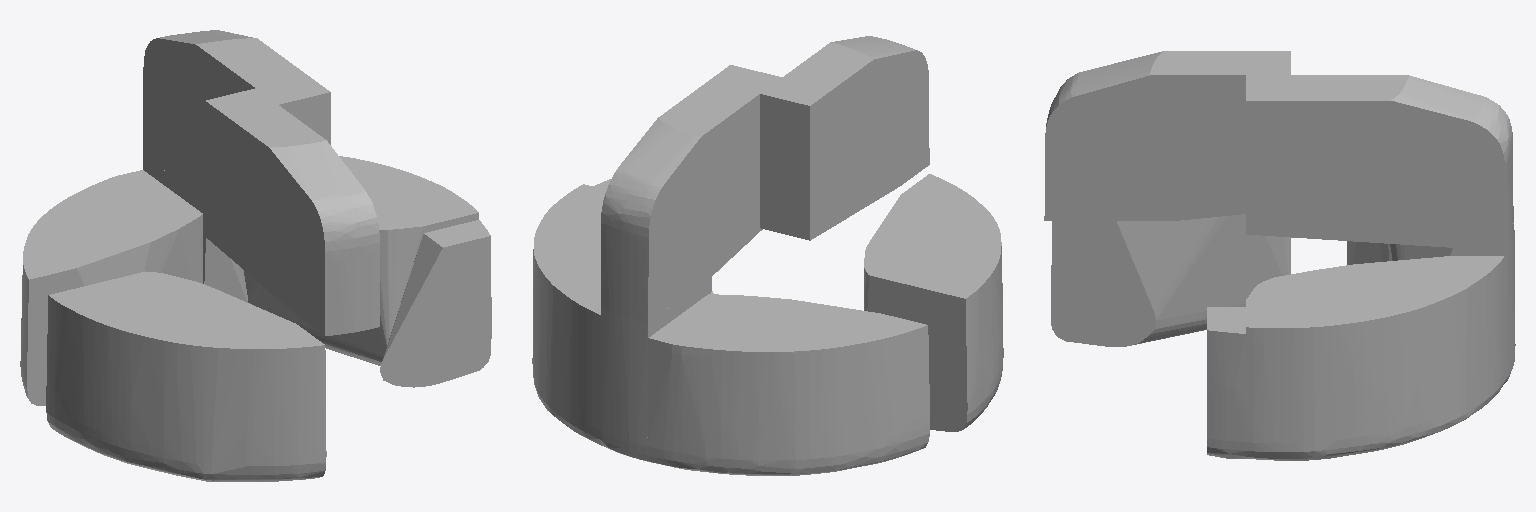
robot.urdf — root:
<robot name="root">
  <link name="link_coacd_convex_piece_0">
    <inertial>
      <origin xyz="0 0 0" rpy="0 0 0"/>
      <inertia ixx="5.64E-03" ixy="1.13E-04" ixz="-3.96E-04" iyy="4.89E-03" iyz="1.57E-04" izz="3.57E-03"/>
    </inertial>
    <visual>
      <origin xyz="0 0 0" rpy="0 0 0"/>
      <geometry>
        <mesh filename="coacd_convex_piece_0.obj" scale="1.0000E+00 1.0000E+00 1.0000E+00"/>
      </geometry>
      <material name="">
        <color rgba="7.50E-01 7.50E-01 7.50E-01 1"/>
      </material>
    </visual>
    <collision>
      <origin xyz="0 0 0" rpy="0 0 0"/>
      <geometry>
        <mesh filename="coacd_convex_piece_0.obj" scale="1.0000E+00 1.0000E+00 1.0000E+00"/>
      </geometry>
    </collision>
  </link>
  <link name="link_coacd_convex_piece_1">
    <inertial>
      <origin xyz="0 0 0" rpy="0 0 0"/>
      <inertia ixx="9.91E-04" ixy="1.31E-04" ixz="6.62E-04" iyy="1.30E-03" iyz="-2.97E-04" izz="4.37E-04"/>
    </inertial>
    <visual>
      <origin xyz="0 0 0" rpy="0 0 0"/>
      <geometry>
        <mesh filename="coacd_convex_piece_1.obj" scale="1.0000E+00 1.0000E+00 1.0000E+00"/>
      </geometry>
      <material name="">
        <color rgba="7.50E-01 7.50E-01 7.50E-01 1"/>
      </material>
    </visual>
    <collision>
      <origin xyz="0 0 0" rpy="0 0 0"/>
      <geometry>
        <mesh filename="coacd_convex_piece_1.obj" scale="1.0000E+00 1.0000E+00 1.0000E+00"/>
      </geometry>
    </collision>
  </link>
  <joint name="link_coacd_convex_piece_1_joint" type="fixed">
    <origin xyz="0 0 0" rpy="0 0 0"/>
    <parent link="link_coacd_convex_piece_0"/>
    <child link="link_coacd_convex_piece_1"/>
  </joint>
  <link name="link_coacd_convex_piece_2">
    <inertial>
      <origin xyz="0 0 0" rpy="0 0 0"/>
      <inertia ixx="1.37E-03" ixy="7.91E-05" ixz="6.43E-04" iyy="1.62E-03" iyz="-1.91E-04" izz="3.00E-04"/>
    </inertial>
    <visual>
      <origin xyz="0 0 0" rpy="0 0 0"/>
      <geometry>
        <mesh filename="coacd_convex_piece_2.obj" scale="1.0000E+00 1.0000E+00 1.0000E+00"/>
      </geometry>
      <material name="">
        <color rgba="7.50E-01 7.50E-01 7.50E-01 1"/>
      </material>
    </visual>
    <collision>
      <origin xyz="0 0 0" rpy="0 0 0"/>
      <geometry>
        <mesh filename="coacd_convex_piece_2.obj" scale="1.0000E+00 1.0000E+00 1.0000E+00"/>
      </geometry>
    </collision>
  </link>
  <joint name="link_coacd_convex_piece_2_joint" type="fixed">
    <origin xyz="0 0 0" rpy="0 0 0"/>
    <parent link="link_coacd_convex_piece_1"/>
    <child link="link_coacd_convex_piece_2"/>
  </joint>
  <link name="link_coacd_convex_piece_3">
    <inertial>
      <origin xyz="0 0 0" rpy="0 0 0"/>
      <inertia ixx="4.43E-03" ixy="-7.04E-04" ixz="2.92E-03" iyy="5.32E-03" iyz="1.57E-03" izz="2.39E-03"/>
    </inertial>
    <visual>
      <origin xyz="0 0 0" rpy="0 0 0"/>
      <geometry>
        <mesh filename="coacd_convex_piece_3.obj" scale="1.0000E+00 1.0000E+00 1.0000E+00"/>
      </geometry>
      <material name="">
        <color rgba="7.50E-01 7.50E-01 7.50E-01 1"/>
      </material>
    </visual>
    <collision>
      <origin xyz="0 0 0" rpy="0 0 0"/>
      <geometry>
        <mesh filename="coacd_convex_piece_3.obj" scale="1.0000E+00 1.0000E+00 1.0000E+00"/>
      </geometry>
    </collision>
  </link>
  <joint name="link_coacd_convex_piece_3_joint" type="fixed">
    <origin xyz="0 0 0" rpy="0 0 0"/>
    <parent link="link_coacd_convex_piece_2"/>
    <child link="link_coacd_convex_piece_3"/>
  </joint>
  <link name="link_coacd_convex_piece_4">
    <inertial>
      <origin xyz="0 0 0" rpy="0 0 0"/>
      <inertia ixx="1.82E-03" ixy="-8.84E-05" ixz="-2.22E-04" iyy="1.33E-03" iyz="-9.09E-04" izz="5.58E-04"/>
    </inertial>
    <visual>
      <origin xyz="0 0 0" rpy="0 0 0"/>
      <geometry>
        <mesh filename="coacd_convex_piece_4.obj" scale="1.0000E+00 1.0000E+00 1.0000E+00"/>
      </geometry>
      <material name="">
        <color rgba="7.50E-01 7.50E-01 7.50E-01 1"/>
      </material>
    </visual>
    <collision>
      <origin xyz="0 0 0" rpy="0 0 0"/>
      <geometry>
        <mesh filename="coacd_convex_piece_4.obj" scale="1.0000E+00 1.0000E+00 1.0000E+00"/>
      </geometry>
    </collision>
  </link>
  <joint name="link_coacd_convex_piece_4_joint" type="fixed">
    <origin xyz="0 0 0" rpy="0 0 0"/>
    <parent link="link_coacd_convex_piece_3"/>
    <child link="link_coacd_convex_piece_4"/>
  </joint>
  <link name="link_coacd_convex_piece_5">
    <inertial>
      <origin xyz="0 0 0" rpy="0 0 0"/>
      <inertia ixx="2.02E-03" ixy="-1.16E-04" ixz="3.03E-04" iyy="1.52E-03" iyz="9.35E-04" izz="5.97E-04"/>
    </inertial>
    <visual>
      <origin xyz="0 0 0" rpy="0 0 0"/>
      <geometry>
        <mesh filename="coacd_convex_piece_5.obj" scale="1.0000E+00 1.0000E+00 1.0000E+00"/>
      </geometry>
      <material name="">
        <color rgba="7.50E-01 7.50E-01 7.50E-01 1"/>
      </material>
    </visual>
    <collision>
      <origin xyz="0 0 0" rpy="0 0 0"/>
      <geometry>
        <mesh filename="coacd_convex_piece_5.obj" scale="1.0000E+00 1.0000E+00 1.0000E+00"/>
      </geometry>
    </collision>
  </link>
  <joint name="link_coacd_convex_piece_5_joint" type="fixed">
    <origin xyz="0 0 0" rpy="0 0 0"/>
    <parent link="link_coacd_convex_piece_4"/>
    <child link="link_coacd_convex_piece_5"/>
  </joint>
  <link name="link_coacd_convex_piece_6">
    <inertial>
      <origin xyz="0 0 0" rpy="0 0 0"/>
      <inertia ixx="4.78E-03" ixy="7.60E-04" ixz="-1.69E-03" iyy="4.13E-03" iyz="2.59E-03" izz="2.16E-03"/>
    </inertial>
    <visual>
      <origin xyz="0 0 0" rpy="0 0 0"/>
      <geometry>
        <mesh filename="coacd_convex_piece_6.obj" scale="1.0000E+00 1.0000E+00 1.0000E+00"/>
      </geometry>
      <material name="">
        <color rgba="7.50E-01 7.50E-01 7.50E-01 1"/>
      </material>
    </visual>
    <collision>
      <origin xyz="0 0 0" rpy="0 0 0"/>
      <geometry>
        <mesh filename="coacd_convex_piece_6.obj" scale="1.0000E+00 1.0000E+00 1.0000E+00"/>
      </geometry>
    </collision>
  </link>
  <joint name="link_coacd_convex_piece_6_joint" type="fixed">
    <origin xyz="0 0 0" rpy="0 0 0"/>
    <parent link="link_coacd_convex_piece_5"/>
    <child link="link_coacd_convex_piece_6"/>
  </joint>
  <link name="link_coacd_convex_piece_7">
    <inertial>
      <origin xyz="0 0 0" rpy="0 0 0"/>
      <inertia ixx="1.12E-02" ixy="-7.22E-04" ixz="4.24E-03" iyy="1.21E-02" iyz="2.41E-03" izz="2.38E-03"/>
    </inertial>
    <visual>
      <origin xyz="0 0 0" rpy="0 0 0"/>
      <geometry>
        <mesh filename="coacd_convex_piece_7.obj" scale="1.0000E+00 1.0000E+00 1.0000E+00"/>
      </geometry>
      <material name="">
        <color rgba="7.50E-01 7.50E-01 7.50E-01 1"/>
      </material>
    </visual>
    <collision>
      <origin xyz="0 0 0" rpy="0 0 0"/>
      <geometry>
        <mesh filename="coacd_convex_piece_7.obj" scale="1.0000E+00 1.0000E+00 1.0000E+00"/>
      </geometry>
    </collision>
  </link>
  <joint name="link_coacd_convex_piece_7_joint" type="fixed">
    <origin xyz="0 0 0" rpy="0 0 0"/>
    <parent link="link_coacd_convex_piece_6"/>
    <child link="link_coacd_convex_piece_7"/>
  </joint>
  <link name="link_coacd_convex_piece_8">
    <inertial>
      <origin xyz="0 0 0" rpy="0 0 0"/>
      <inertia ixx="1.41E-03" ixy="1.33E-04" ixz="-9.55E-04" iyy="1.89E-03" iyz="3.17E-04" izz="5.84E-04"/>
    </inertial>
    <visual>
      <origin xyz="0 0 0" rpy="0 0 0"/>
      <geometry>
        <mesh filename="coacd_convex_piece_8.obj" scale="1.0000E+00 1.0000E+00 1.0000E+00"/>
      </geometry>
      <material name="">
        <color rgba="7.50E-01 7.50E-01 7.50E-01 1"/>
      </material>
    </visual>
    <collision>
      <origin xyz="0 0 0" rpy="0 0 0"/>
      <geometry>
        <mesh filename="coacd_convex_piece_8.obj" scale="1.0000E+00 1.0000E+00 1.0000E+00"/>
      </geometry>
    </collision>
  </link>
  <joint name="link_coacd_convex_piece_8_joint" type="fixed">
    <origin xyz="0 0 0" rpy="0 0 0"/>
    <parent link="link_coacd_convex_piece_7"/>
    <child link="link_coacd_convex_piece_8"/>
  </joint>
  <link name="link_coacd_convex_piece_9">
    <inertial>
      <origin xyz="0 0 0" rpy="0 0 0"/>
      <inertia ixx="9.70E-03" ixy="6.87E-04" ixz="2.21E-03" iyy="9.15E-03" iyz="-3.33E-03" izz="1.88E-03"/>
    </inertial>
    <visual>
      <origin xyz="0 0 0" rpy="0 0 0"/>
      <geometry>
        <mesh filename="coacd_convex_piece_9.obj" scale="1.0000E+00 1.0000E+00 1.0000E+00"/>
      </geometry>
      <material name="">
        <color rgba="7.50E-01 7.50E-01 7.50E-01 1"/>
      </material>
    </visual>
    <collision>
      <origin xyz="0 0 0" rpy="0 0 0"/>
      <geometry>
        <mesh filename="coacd_convex_piece_9.obj" scale="1.0000E+00 1.0000E+00 1.0000E+00"/>
      </geometry>
    </collision>
  </link>
  <joint name="link_coacd_convex_piece_9_joint" type="fixed">
    <origin xyz="0 0 0" rpy="0 0 0"/>
    <parent link="link_coacd_convex_piece_8"/>
    <child link="link_coacd_convex_piece_9"/>
  </joint>
  <link name="link_coacd_convex_piece_10">
    <inertial>
      <origin xyz="0 0 0" rpy="0 0 0"/>
      <inertia ixx="4.40E-03" ixy="7.36E-04" ixz="1.55E-03" iyy="3.78E-03" iyz="-2.40E-03" izz="2.02E-03"/>
    </inertial>
    <visual>
      <origin xyz="0 0 0" rpy="0 0 0"/>
      <geometry>
        <mesh filename="coacd_convex_piece_10.obj" scale="1.0000E+00 1.0000E+00 1.0000E+00"/>
      </geometry>
      <material name="">
        <color rgba="7.50E-01 7.50E-01 7.50E-01 1"/>
      </material>
    </visual>
    <collision>
      <origin xyz="0 0 0" rpy="0 0 0"/>
      <geometry>
        <mesh filename="coacd_convex_piece_10.obj" scale="1.0000E+00 1.0000E+00 1.0000E+00"/>
      </geometry>
    </collision>
  </link>
  <joint name="link_coacd_convex_piece_10_joint" type="fixed">
    <origin xyz="0 0 0" rpy="0 0 0"/>
    <parent link="link_coacd_convex_piece_9"/>
    <child link="link_coacd_convex_piece_10"/>
  </joint>
  <link name="link_coacd_convex_piece_11">
    <inertial>
      <origin xyz="0 0 0" rpy="0 0 0"/>
      <inertia ixx="2.97E-03" ixy="-6.93E-05" ixz="-1.68E-04" iyy="2.46E-03" iyz="-1.20E-03" izz="5.38E-04"/>
    </inertial>
    <visual>
      <origin xyz="0 0 0" rpy="0 0 0"/>
      <geometry>
        <mesh filename="coacd_convex_piece_11.obj" scale="1.0000E+00 1.0000E+00 1.0000E+00"/>
      </geometry>
      <material name="">
        <color rgba="7.50E-01 7.50E-01 7.50E-01 1"/>
      </material>
    </visual>
    <collision>
      <origin xyz="0 0 0" rpy="0 0 0"/>
      <geometry>
        <mesh filename="coacd_convex_piece_11.obj" scale="1.0000E+00 1.0000E+00 1.0000E+00"/>
      </geometry>
    </collision>
  </link>
  <joint name="link_coacd_convex_piece_11_joint" type="fixed">
    <origin xyz="0 0 0" rpy="0 0 0"/>
    <parent link="link_coacd_convex_piece_10"/>
    <child link="link_coacd_convex_piece_11"/>
  </joint>
  <link name="link_coacd_convex_piece_12">
    <inertial>
      <origin xyz="0 0 0" rpy="0 0 0"/>
      <inertia ixx="1.00E-02" ixy="6.91E-04" ixz="-2.27E-03" iyy="9.44E-03" iyz="3.47E-03" izz="1.96E-03"/>
    </inertial>
    <visual>
      <origin xyz="0 0 0" rpy="0 0 0"/>
      <geometry>
        <mesh filename="coacd_convex_piece_12.obj" scale="1.0000E+00 1.0000E+00 1.0000E+00"/>
      </geometry>
      <material name="">
        <color rgba="7.50E-01 7.50E-01 7.50E-01 1"/>
      </material>
    </visual>
    <collision>
      <origin xyz="0 0 0" rpy="0 0 0"/>
      <geometry>
        <mesh filename="coacd_convex_piece_12.obj" scale="1.0000E+00 1.0000E+00 1.0000E+00"/>
      </geometry>
    </collision>
  </link>
  <joint name="link_coacd_convex_piece_12_joint" type="fixed">
    <origin xyz="0 0 0" rpy="0 0 0"/>
    <parent link="link_coacd_convex_piece_11"/>
    <child link="link_coacd_convex_piece_12"/>
  </joint>
  <link name="link_coacd_convex_piece_13">
    <inertial>
      <origin xyz="0 0 0" rpy="0 0 0"/>
      <inertia ixx="1.10E-02" ixy="-7.68E-04" ixz="-3.94E-03" iyy="1.16E-02" iyz="-2.64E-03" izz="2.26E-03"/>
    </inertial>
    <visual>
      <origin xyz="0 0 0" rpy="0 0 0"/>
      <geometry>
        <mesh filename="coacd_convex_piece_13.obj" scale="1.0000E+00 1.0000E+00 1.0000E+00"/>
      </geometry>
      <material name="">
        <color rgba="7.50E-01 7.50E-01 7.50E-01 1"/>
      </material>
    </visual>
    <collision>
      <origin xyz="0 0 0" rpy="0 0 0"/>
      <geometry>
        <mesh filename="coacd_convex_piece_13.obj" scale="1.0000E+00 1.0000E+00 1.0000E+00"/>
      </geometry>
    </collision>
  </link>
  <joint name="link_coacd_convex_piece_13_joint" type="fixed">
    <origin xyz="0 0 0" rpy="0 0 0"/>
    <parent link="link_coacd_convex_piece_12"/>
    <child link="link_coacd_convex_piece_13"/>
  </joint>
  <link name="link_coacd_convex_piece_14">
    <inertial>
      <origin xyz="0 0 0" rpy="0 0 0"/>
      <inertia ixx="2.88E-03" ixy="-8.86E-05" ixz="2.02E-04" iyy="2.38E-03" iyz="1.18E-03" izz="5.38E-04"/>
    </inertial>
    <visual>
      <origin xyz="0 0 0" rpy="0 0 0"/>
      <geometry>
        <mesh filename="coacd_convex_piece_14.obj" scale="1.0000E+00 1.0000E+00 1.0000E+00"/>
      </geometry>
      <material name="">
        <color rgba="7.50E-01 7.50E-01 7.50E-01 1"/>
      </material>
    </visual>
    <collision>
      <origin xyz="0 0 0" rpy="0 0 0"/>
      <geometry>
        <mesh filename="coacd_convex_piece_14.obj" scale="1.0000E+00 1.0000E+00 1.0000E+00"/>
      </geometry>
    </collision>
  </link>
  <joint name="link_coacd_convex_piece_14_joint" type="fixed">
    <origin xyz="0 0 0" rpy="0 0 0"/>
    <parent link="link_coacd_convex_piece_13"/>
    <child link="link_coacd_convex_piece_14"/>
  </joint>
  <link name="link_coacd_convex_piece_15">
    <inertial>
      <origin xyz="0 0 0" rpy="0 0 0"/>
      <inertia ixx="4.23E-03" ixy="-7.46E-04" ixz="-2.63E-03" iyy="4.83E-03" iyz="-1.70E-03" izz="2.21E-03"/>
    </inertial>
    <visual>
      <origin xyz="0 0 0" rpy="0 0 0"/>
      <geometry>
        <mesh filename="coacd_convex_piece_15.obj" scale="1.0000E+00 1.0000E+00 1.0000E+00"/>
      </geometry>
      <material name="">
        <color rgba="7.50E-01 7.50E-01 7.50E-01 1"/>
      </material>
    </visual>
    <collision>
      <origin xyz="0 0 0" rpy="0 0 0"/>
      <geometry>
        <mesh filename="coacd_convex_piece_15.obj" scale="1.0000E+00 1.0000E+00 1.0000E+00"/>
      </geometry>
    </collision>
  </link>
  <joint name="link_coacd_convex_piece_15_joint" type="fixed">
    <origin xyz="0 0 0" rpy="0 0 0"/>
    <parent link="link_coacd_convex_piece_14"/>
    <child link="link_coacd_convex_piece_15"/>
  </joint>
  <link name="link_coacd_convex_piece_16">
    <inertial>
      <origin xyz="0 0 0" rpy="0 0 0"/>
      <inertia ixx="2.10E-03" ixy="9.00E-05" ixz="-1.01E-03" iyy="2.50E-03" iyz="2.19E-04" izz="4.51E-04"/>
    </inertial>
    <visual>
      <origin xyz="0 0 0" rpy="0 0 0"/>
      <geometry>
        <mesh filename="coacd_convex_piece_16.obj" scale="1.0000E+00 1.0000E+00 1.0000E+00"/>
      </geometry>
      <material name="">
        <color rgba="7.50E-01 7.50E-01 7.50E-01 1"/>
      </material>
    </visual>
    <collision>
      <origin xyz="0 0 0" rpy="0 0 0"/>
      <geometry>
        <mesh filename="coacd_convex_piece_16.obj" scale="1.0000E+00 1.0000E+00 1.0000E+00"/>
      </geometry>
    </collision>
  </link>
  <joint name="link_coacd_convex_piece_16_joint" type="fixed">
    <origin xyz="0 0 0" rpy="0 0 0"/>
    <parent link="link_coacd_convex_piece_15"/>
    <child link="link_coacd_convex_piece_16"/>
  </joint>
</robot>

--- Render facts (derived) ---
3 views of the same robot in one strip: view 1: azimuth 30°, elevation 25°; view 2: azimuth 150°, elevation 25°; view 3: azimuth 270°, elevation 25° (orthographic).
Model root with 17 links and 16 joints (16 fixed), rooted at link_coacd_convex_piece_0, posed every joint at zero.
Links seen in each view (by area): view 1: link_coacd_convex_piece_13, link_coacd_convex_piece_4, link_coacd_convex_piece_12, link_coacd_convex_piece_5, link_coacd_convex_piece_2, link_coacd_convex_piece_7, link_coacd_convex_piece_14; view 2: link_coacd_convex_piece_12, link_coacd_convex_piece_5, link_coacd_convex_piece_4, link_coacd_convex_piece_13, link_coacd_convex_piece_7, link_coacd_convex_piece_14; view 3: link_coacd_convex_piece_7, link_coacd_convex_piece_5, link_coacd_convex_piece_4, link_coacd_convex_piece_13, link_coacd_convex_piece_2, link_coacd_convex_piece_14, link_coacd_convex_piece_12.
Link boxes in pixels (x1,y1,x2,y2): link_coacd_convex_piece_13: (46,271,326,481); link_coacd_convex_piece_4: (205,88,379,335); link_coacd_convex_piece_12: (20,170,202,405); link_coacd_convex_piece_5: (143,30,330,199); link_coacd_convex_piece_2: (380,220,491,387); link_coacd_convex_piece_7: (244,156,478,365); link_coacd_convex_piece_14: (143,155,247,302); link_coacd_convex_piece_12: (647,294,929,475); link_coacd_convex_piece_5: (601,65,781,322); link_coacd_convex_piece_4: (760,36,929,240); link_coacd_convex_piece_13: (864,174,1003,431); link_coacd_convex_piece_7: (532,184,606,445); link_coacd_convex_piece_14: (600,277,711,462); link_coacd_convex_piece_7: (1246,256,1505,460); link_coacd_convex_piece_5: (1246,75,1513,247); link_coacd_convex_piece_4: (1044,51,1290,220); link_coacd_convex_piece_13: (1051,214,1290,346); link_coacd_convex_piece_2: (1207,307,1245,458); link_coacd_convex_piece_14: (1388,223,1515,386); link_coacd_convex_piece_12: (1347,230,1514,281).
Bounding box of the posed robot: 0.8457 × 0.8439 × 0.5869 m (x, y, z).
Meshes: 17 distinct files referenced, 7 mesh visuals loaded (7 OBJ); not drawn: 10 (reference not matched to a file when rendering).